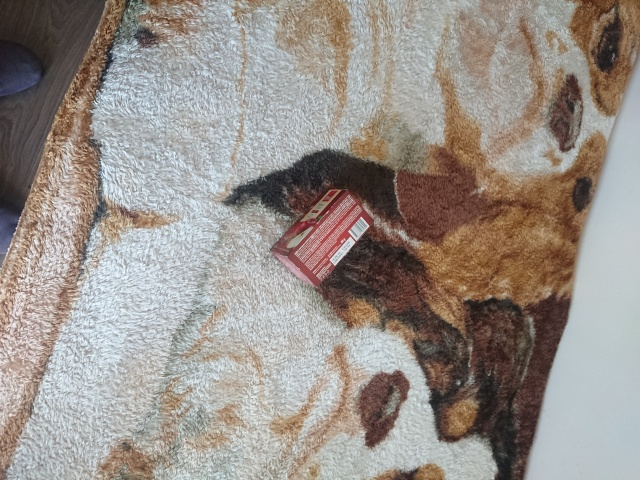Franck Apple Cinnamon Tea 60g: (267, 186, 375, 289)
